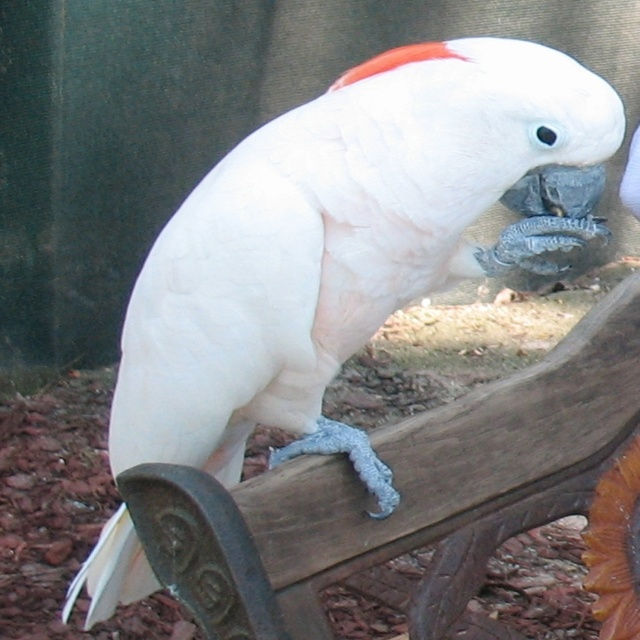Parrot: (62, 36, 626, 631)
